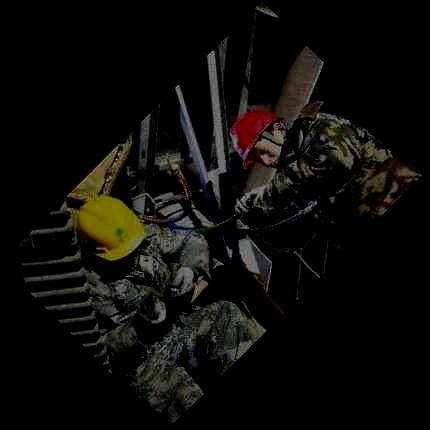helmet: (75, 194, 147, 261), (230, 106, 288, 170)
